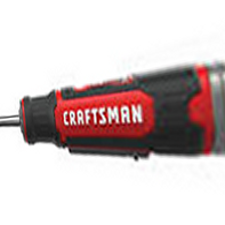screwdriver: (1, 60, 225, 166)
